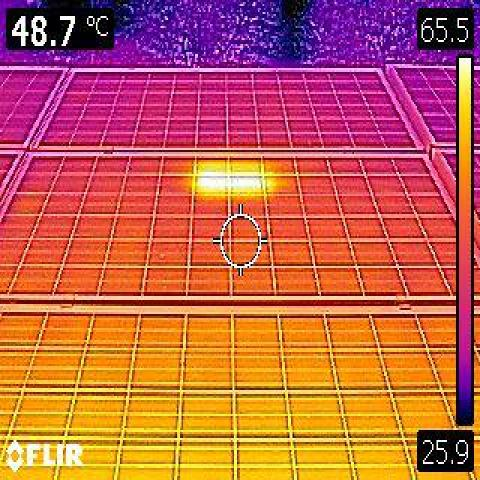fault: (199, 172, 228, 193), (233, 174, 262, 194)
